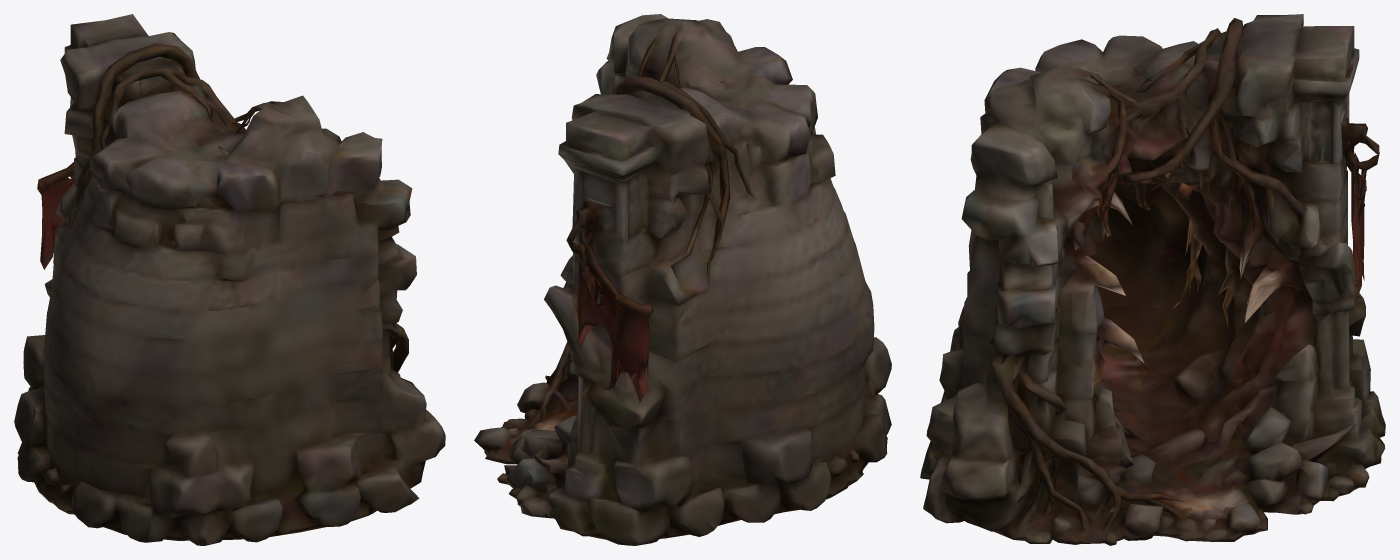
File: burrowed-wall-breach-plug.glb
The picture shows the model from 3 angles, left to right: view 1: azimuth 30°, elevation 25°; view 2: azimuth 150°, elevation 25°; view 3: azimuth 270°, elevation 25°; orthographic projection. The views are drawn at different scales.
Visible parts, largest first — view 1: tripo_node_b83b06db-9b84-4e4a-a672-fc121d69398a; view 2: tripo_node_b83b06db-9b84-4e4a-a672-fc121d69398a; view 3: tripo_node_b83b06db-9b84-4e4a-a672-fc121d69398a.
Part boxes in pixels (x1,y1,x2,y2): tripo_node_b83b06db-9b84-4e4a-a672-fc121d69398a: (14, 14, 445, 545); tripo_node_b83b06db-9b84-4e4a-a672-fc121d69398a: (474, 14, 891, 545); tripo_node_b83b06db-9b84-4e4a-a672-fc121d69398a: (920, 14, 1385, 545).
Bounding box in the file's own units: 0.8643 × 1 × 0.9897.
1 material, 1 textured.
